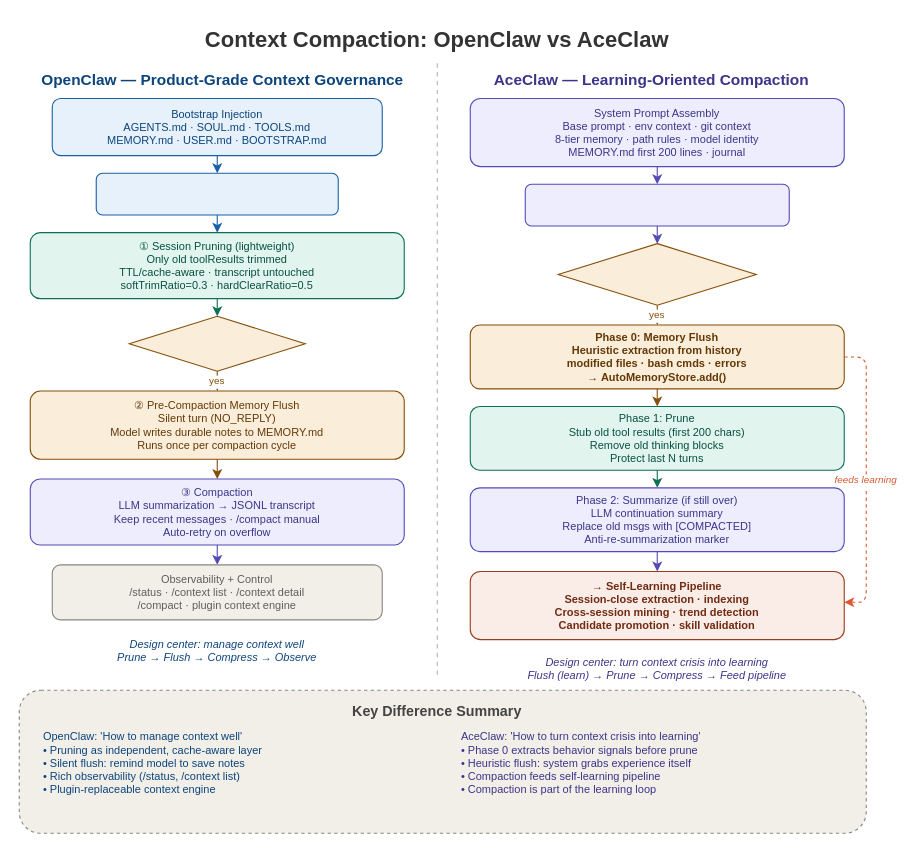
Some shapes in this 917 by 853 pixel diagram are drawn without their labels. The centre of each missing label's shape, as x and y in pixels:
"Context > threshold?" belongs at point 216,343.
"inputTokens > 85% effective window?" belongs at point 656,274.
"ReAct Loop Running reason → act → observe → reason" belongs at point 656,204.
"Session Running Agent loop + tool calls" belongs at point 216,193.
